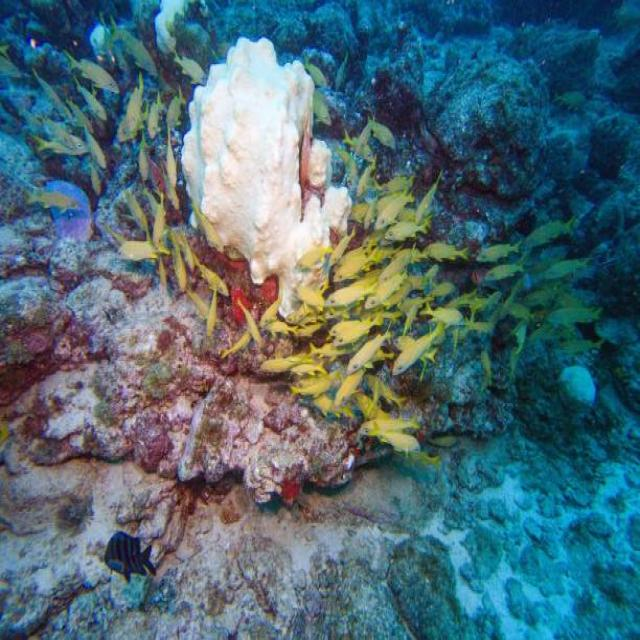Coral: (181, 36, 352, 319)
